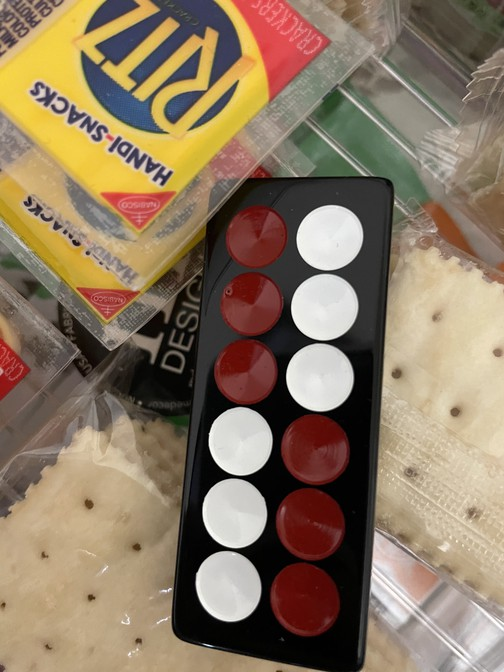heaven: (173, 179, 394, 672)
